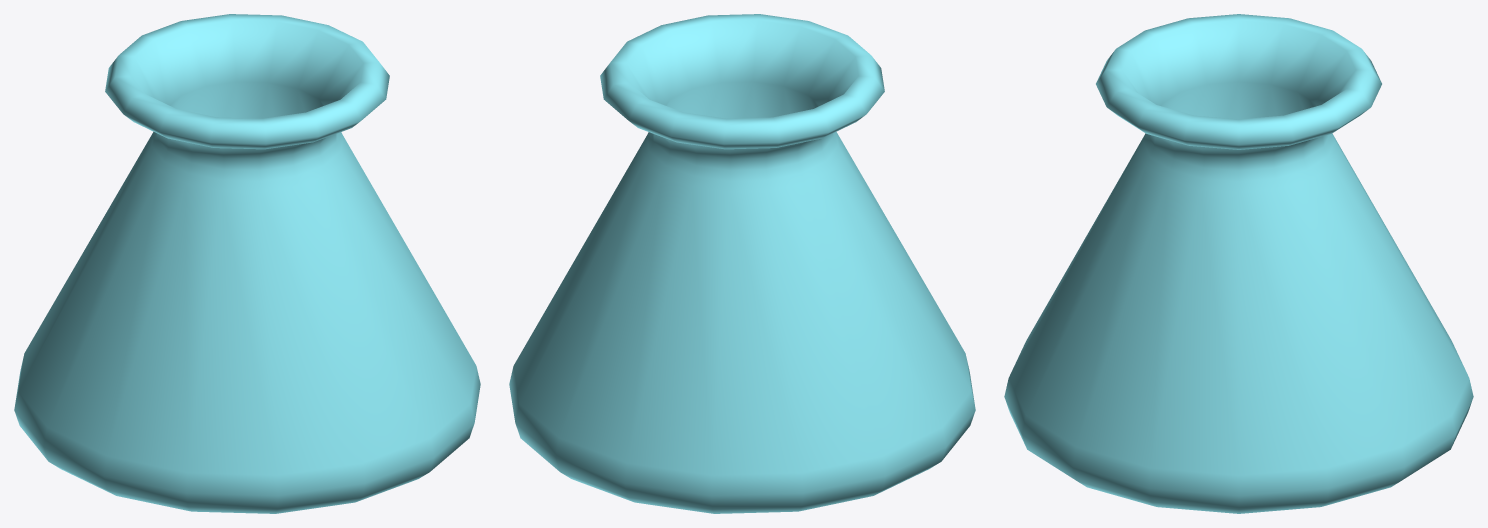
File: oil_colba.fbx
The picture shows the model from 3 angles, left to right: view 1: azimuth 30°, elevation 25°; view 2: azimuth 150°, elevation 25°; view 3: azimuth 270°, elevation 25°; orthographic projection.
Visible parts, largest first — view 1: Cylinder; view 2: Cylinder; view 3: Cylinder.
Part boxes in pixels (left/top/right/bottom): Cylinder: left=14, top=14, right=480, bottom=513; Cylinder: left=509, top=14, right=975, bottom=513; Cylinder: left=1004, top=14, right=1473, bottom=513.
Bounding box in the file's own units: 27.78 × 23.31 × 27.78.
